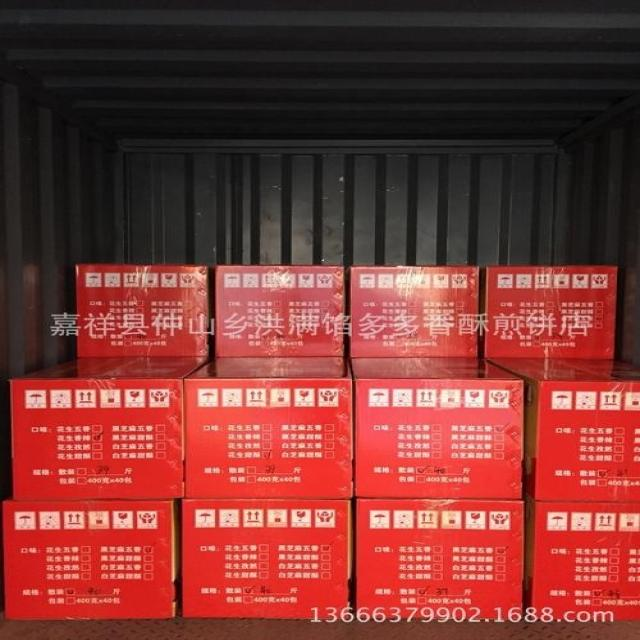box: (8, 358, 207, 501), (349, 358, 524, 500), (180, 358, 353, 498), (483, 358, 640, 501), (180, 498, 352, 622), (3, 500, 175, 621), (355, 500, 525, 621), (531, 501, 640, 621), (76, 263, 210, 358), (484, 266, 618, 361), (348, 265, 480, 358), (215, 265, 346, 358)
